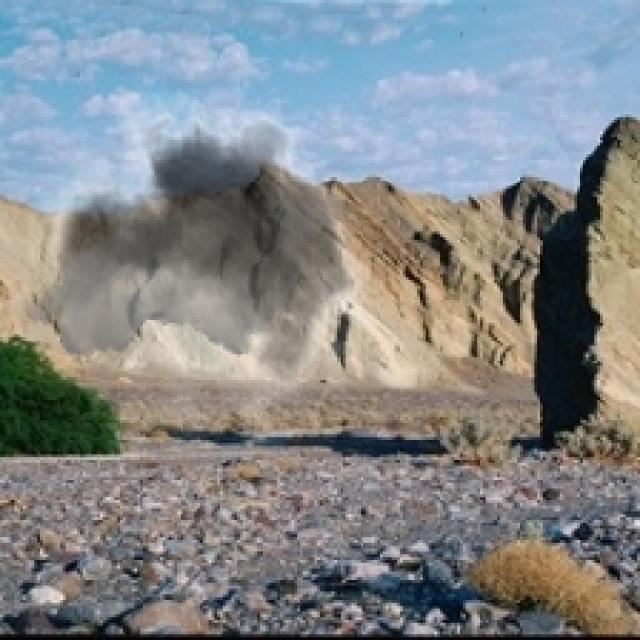Smoke: (23, 68, 386, 460)
